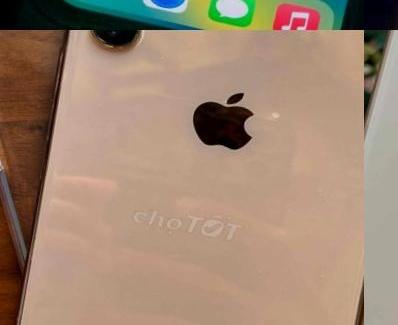scratch: (131, 30, 157, 47)
